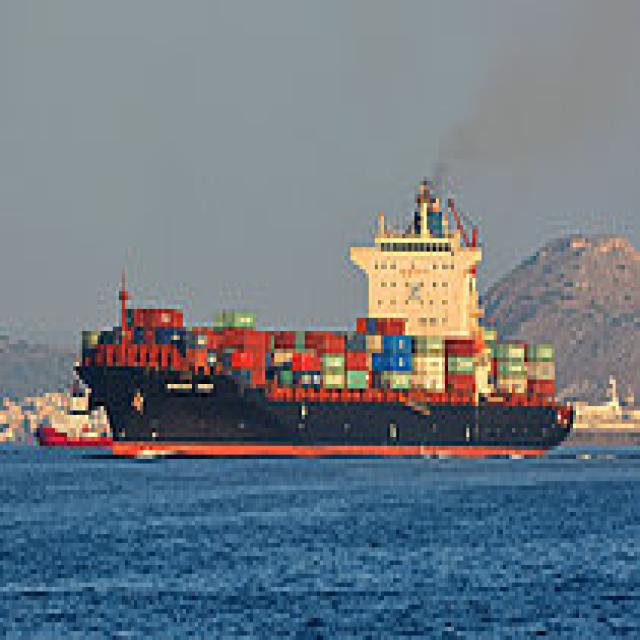Cargo: (67, 172, 573, 455)
